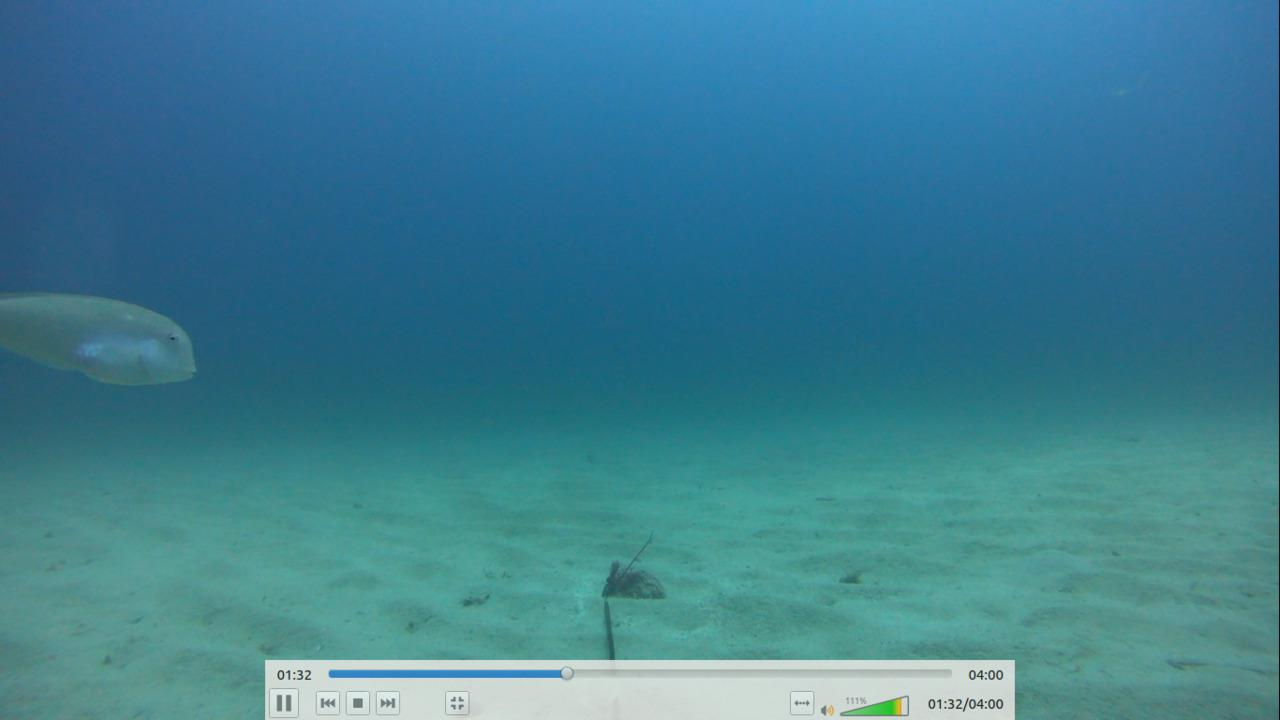raor: (0, 286, 204, 391)
